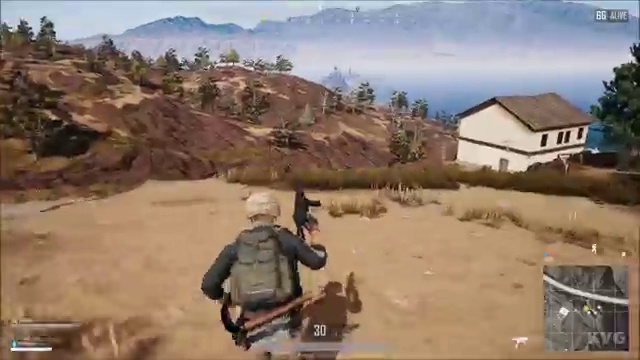Player: (185, 183, 365, 316)
